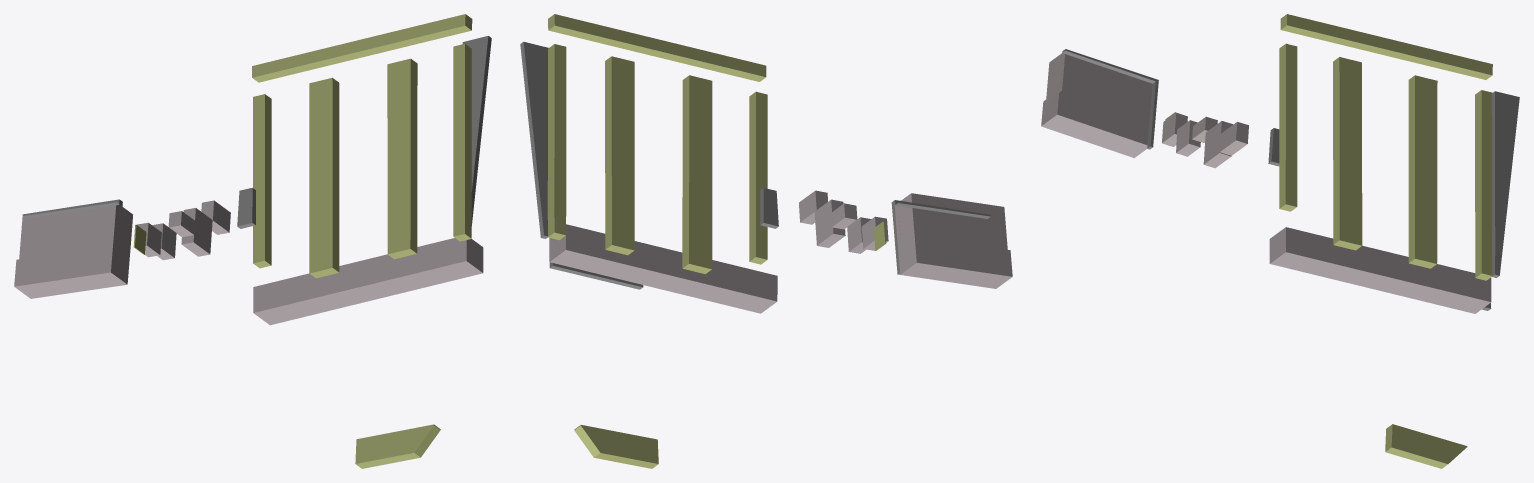
3 views of the same model, side by side, from view 1: azimuth 30°, elevation 25°; view 2: azimuth 150°, elevation 25°; view 3: azimuth 330°, elevation 25° (orthographic). The views are drawn at different scales.
Visible parts, largest first — view 1: 0_2_1_3_0_3; view 2: 0_2_1_3_0_3; view 3: 0_2_1_3_0_3.
Boxes of the visible parts, x1,y1,x2,y2 form: 0_2_1_3_0_3: (14, 14, 491, 468); 0_2_1_3_0_3: (520, 14, 1012, 468); 0_2_1_3_0_3: (1041, 14, 1519, 468).
Size of the model in its own units: 246 by 212 by 18.36.
